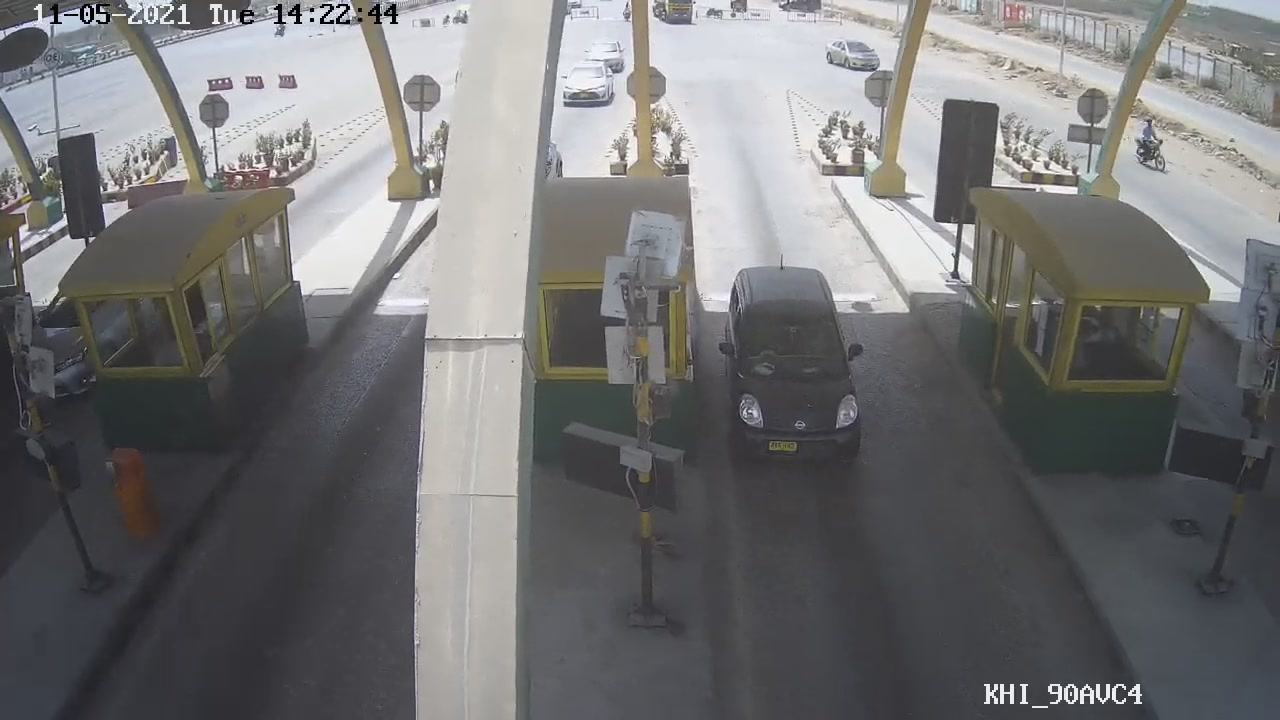F1: (707, 259, 870, 466)
